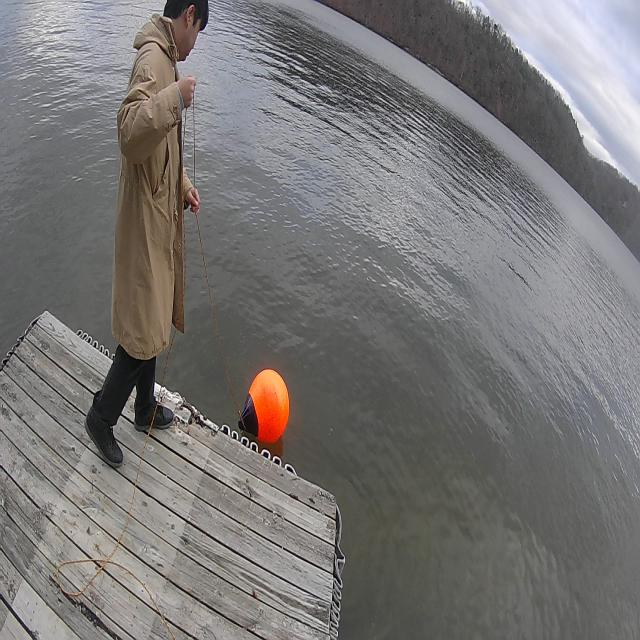Buoy: (237, 366, 291, 451)
